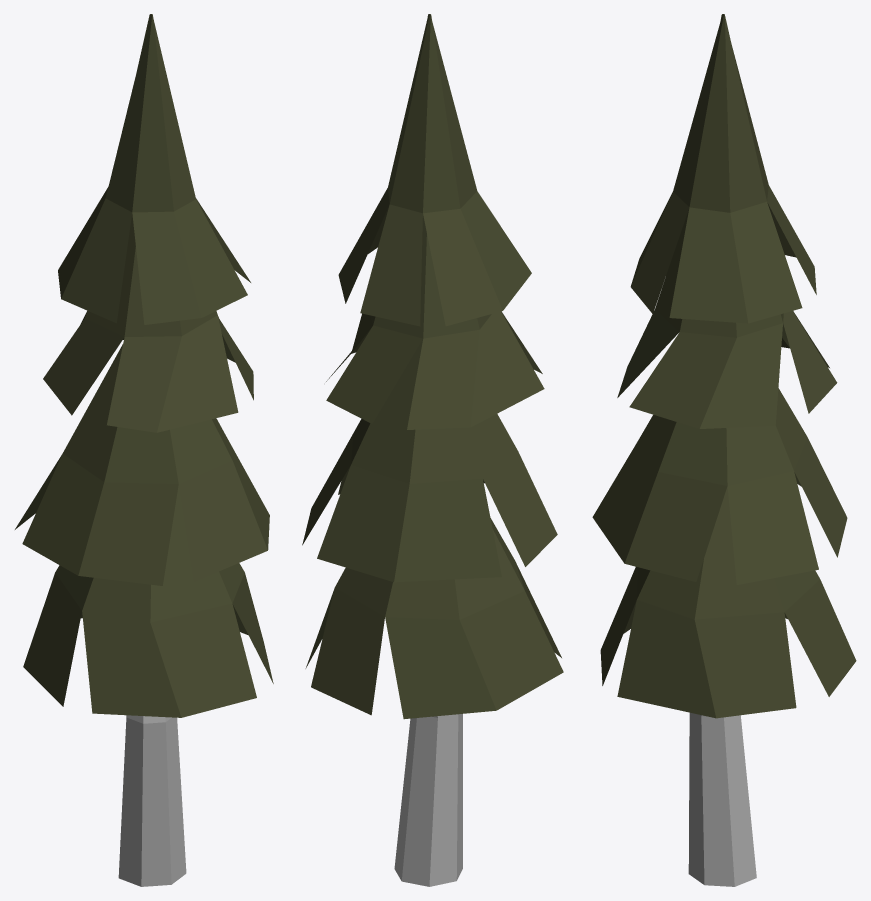
File: pohon 3.fbx
3 renders of one model, left to right at view 1: azimuth 30°, elevation 25°; view 2: azimuth 150°, elevation 25°; view 3: azimuth 270°, elevation 25°, orthographic.
Parts seen in each view (by area): view 1: Circle.004; view 2: Circle.004; view 3: Circle.004.
Boxes of the visible parts, <box> form: Circle.004: <box>15,14,273,886</box>; Circle.004: <box>302,14,563,886</box>; Circle.004: <box>592,14,856,886</box>.
Bounding box in the file's own units: 280 × 1026 × 286.
